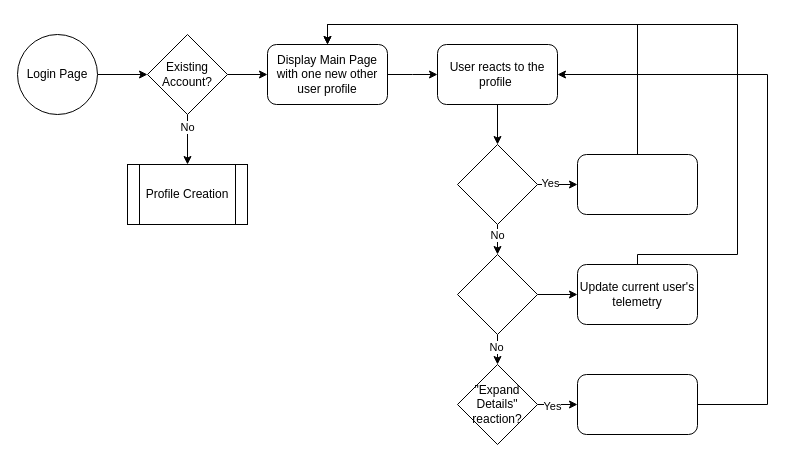
Some shapes in this 793 by 462 pixel diagram are drawn without their labels. Each missing label, with the centre of its shape:
"Dislike" reaction?: pixel 497 294
"Like" reaction?: pixel 497 184
Send "Like" to other user and update current user's telemetry: pixel 637 184
Show expanded details and await return: pixel 637 404
